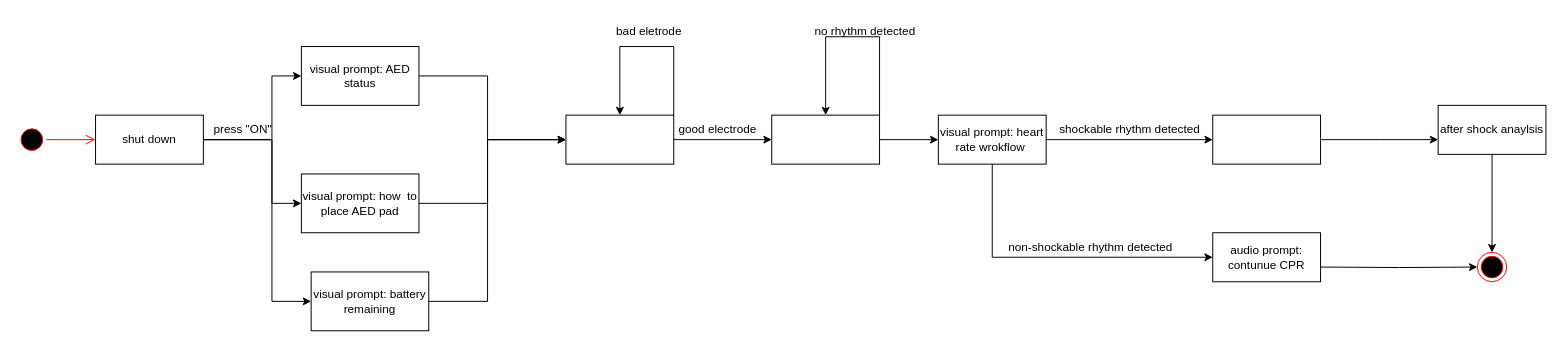
Image size: 1563x348. Some labels were removed from this diagram. The shapes that lost their labels are listed below. From the top down, each one's box as (x1, y1, x2, y2) in pixels, then its label:
(565, 114, 674, 164): working: attaching pads
(771, 114, 880, 164): working: heart rhythm analysis
(1212, 114, 1321, 164): audio prompt: shock
